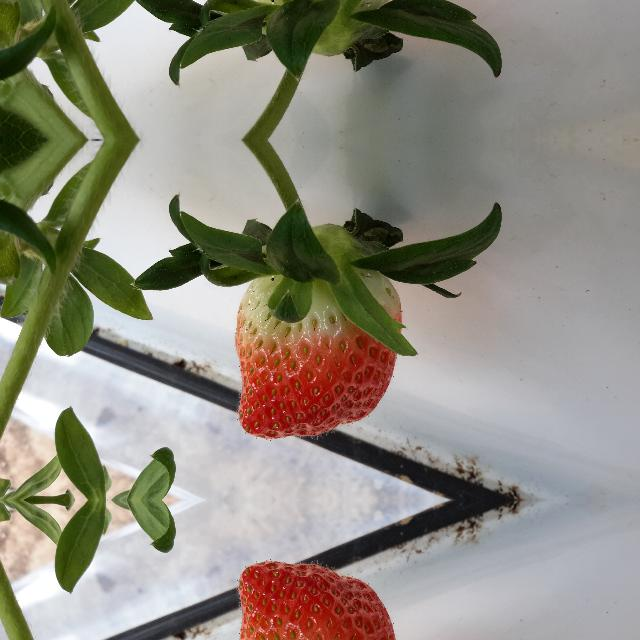Health_100: (235, 264, 402, 438), (234, 561, 401, 640)
